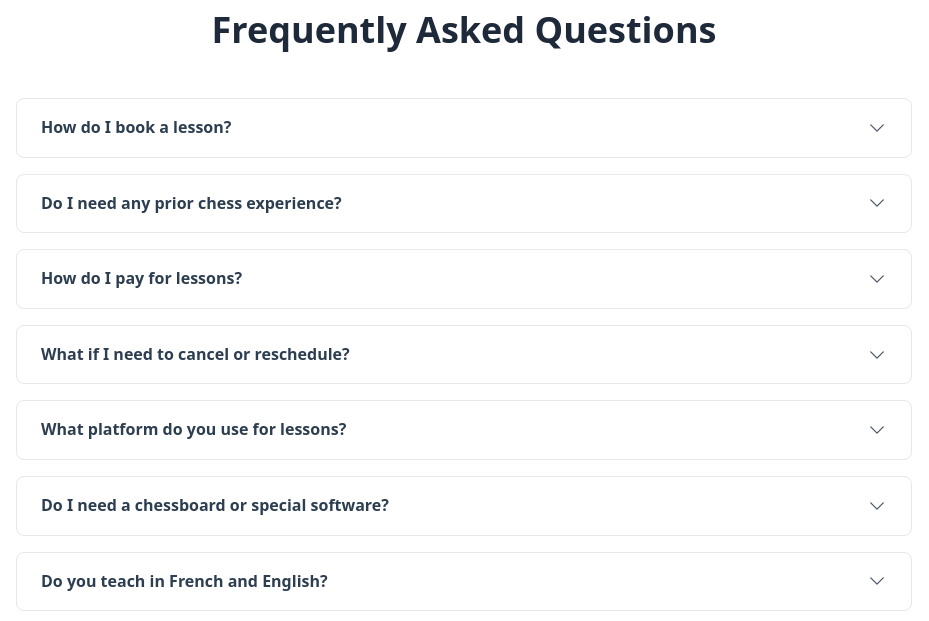
it: FAQ Component › expands and shows answer when question is clicked
Click the button "How do I book a lesson?": {"x": 136, "y": 127} [17,99,911,157]
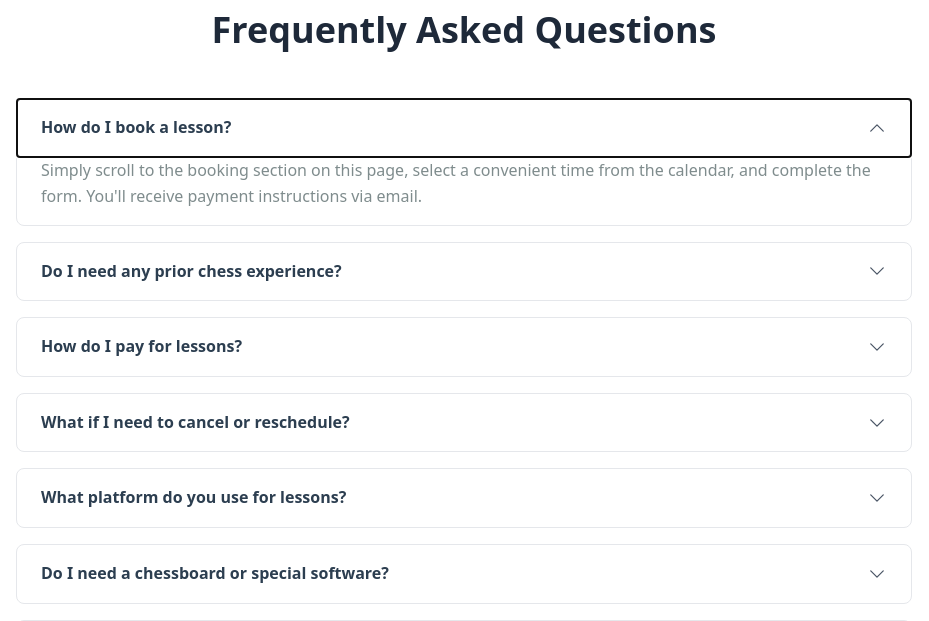
Expected: the text "Simply scroll to the booking section" is shown, [41,159,871,207]
